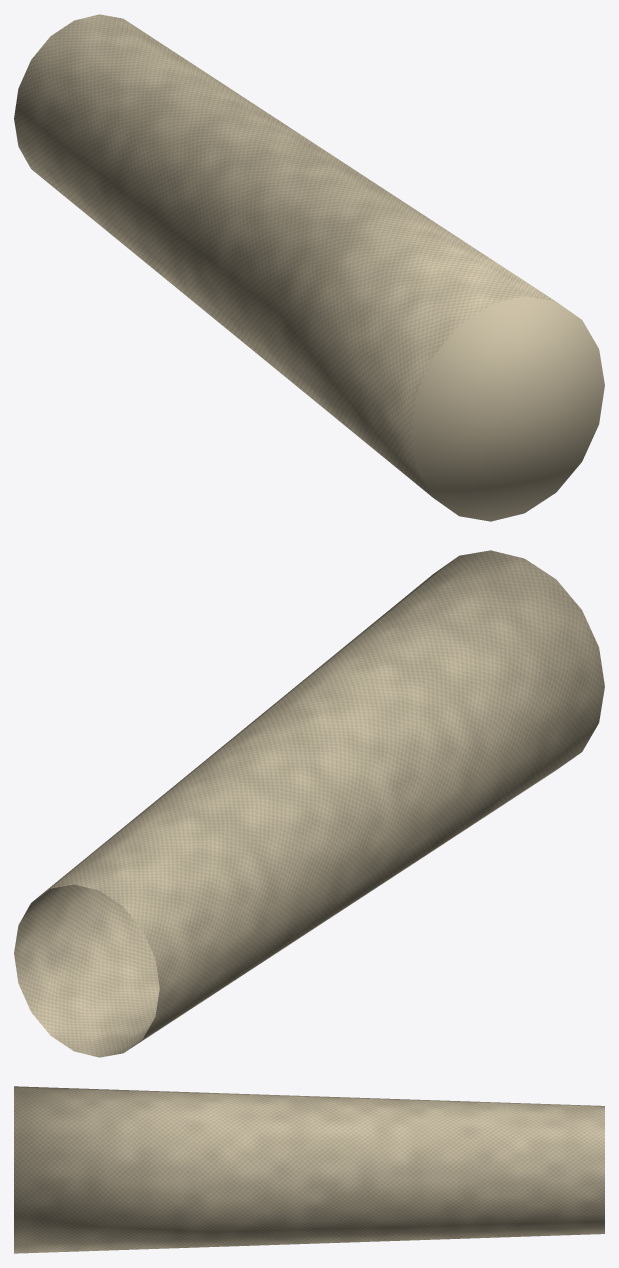
Rendered from fp_upper_storybook_cloth.glb.
The picture shows the model from 3 angles, top to bottom: view 1: azimuth 30°, elevation 25°; view 2: azimuth 150°, elevation 25°; view 3: azimuth 270°, elevation 25°; orthographic projection. The views are drawn at different scales.
Visible parts, largest first — view 1: fp_upper; view 2: fp_upper; view 3: fp_upper.
Boxes of the visible parts, bbox=[...] form: fp_upper: bbox=[14, 14, 604, 521]; fp_upper: bbox=[14, 550, 604, 1057]; fp_upper: bbox=[14, 1086, 604, 1253].
Size of the model in its own units: 0.096 by 0.1024 by 0.36.
Materials: 1 (1 with a texture image).
